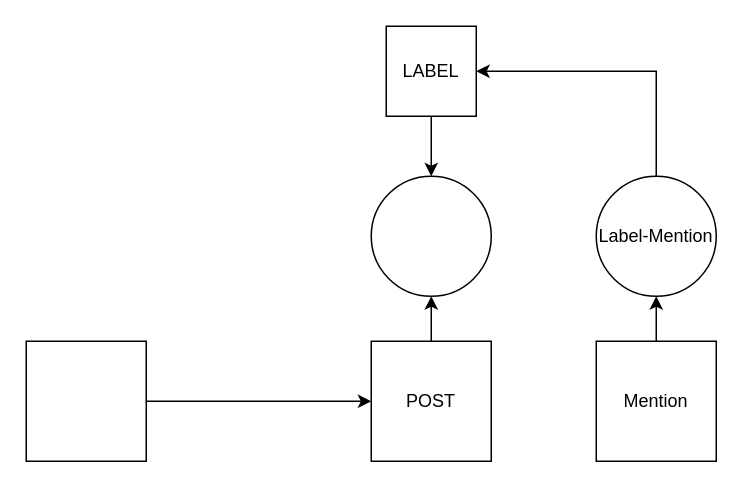
Image size: 743x488. Some labels were removed from this diagram. Here are the shapes that lost their labels. From the top down, the centre of each, then its label:
point (430, 235): Label_Post
point (85, 400): USER
